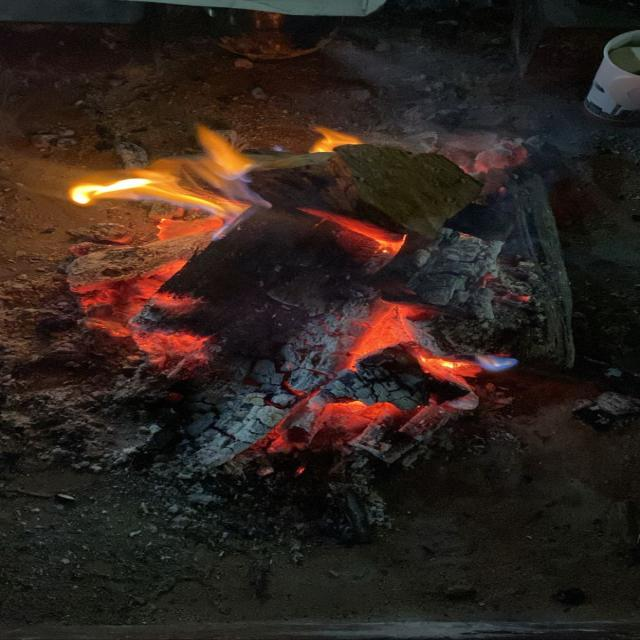fire: (264, 295, 485, 455), (66, 122, 259, 218), (309, 125, 365, 153)
